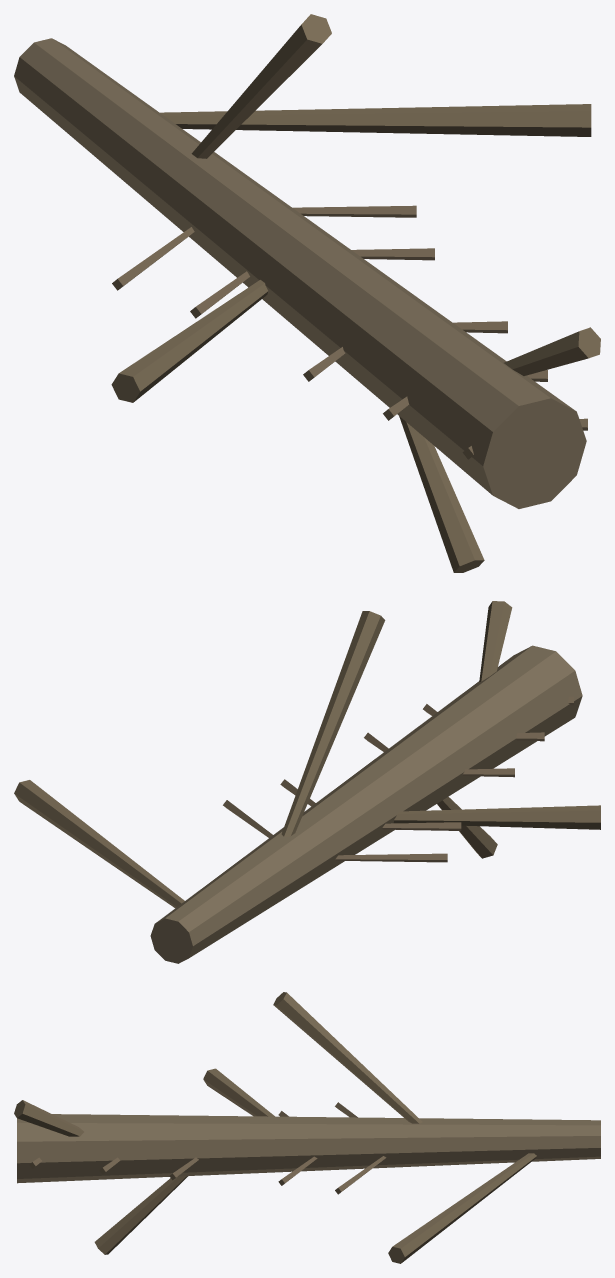
File: dead_tree.glb
3 renders of one model, top to bottom at view 1: azimuth 30°, elevation 25°; view 2: azimuth 150°, elevation 25°; view 3: azimuth 270°, elevation 25°, orthographic. The views are drawn at different scales.
Visible parts, largest first — view 1: geometry_0; view 2: geometry_0; view 3: geometry_0.
Part boxes in pixels (left/top/right/bottom): geometry_0: left=14, top=14, right=600, bottom=572; geometry_0: left=14, top=601, right=600, bottom=963; geometry_0: left=14, top=992, right=600, bottom=1263.
Size of the model in its own units: 2.22 by 1.48 by 3.01.
